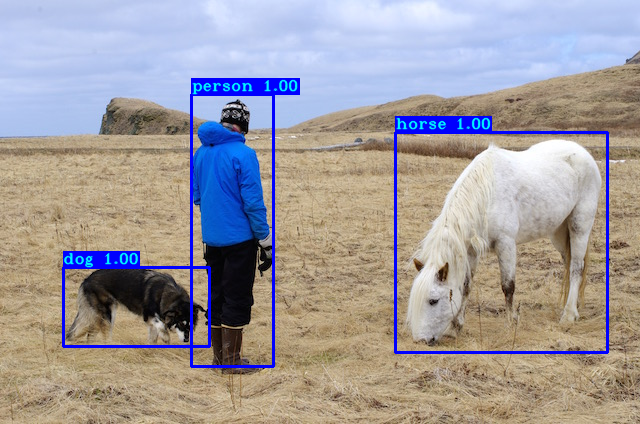dog: (63, 267, 209, 346)
horse: (395, 132, 607, 352)
person: (191, 94, 273, 366)
